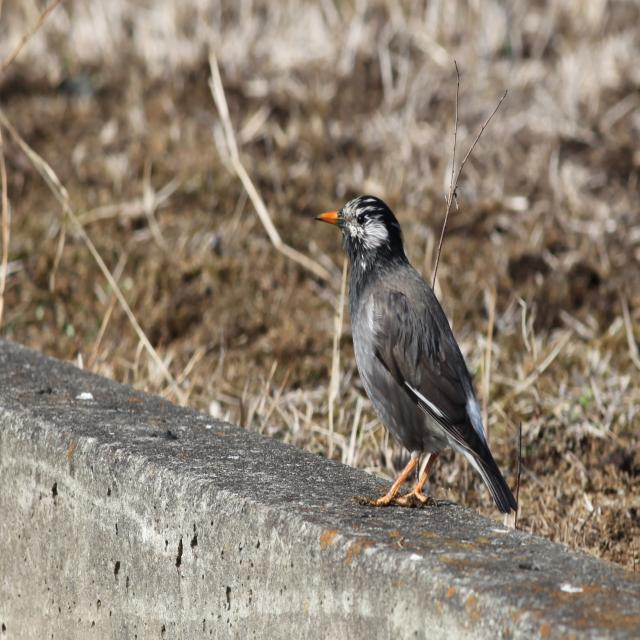bird: (317, 192, 518, 538)
